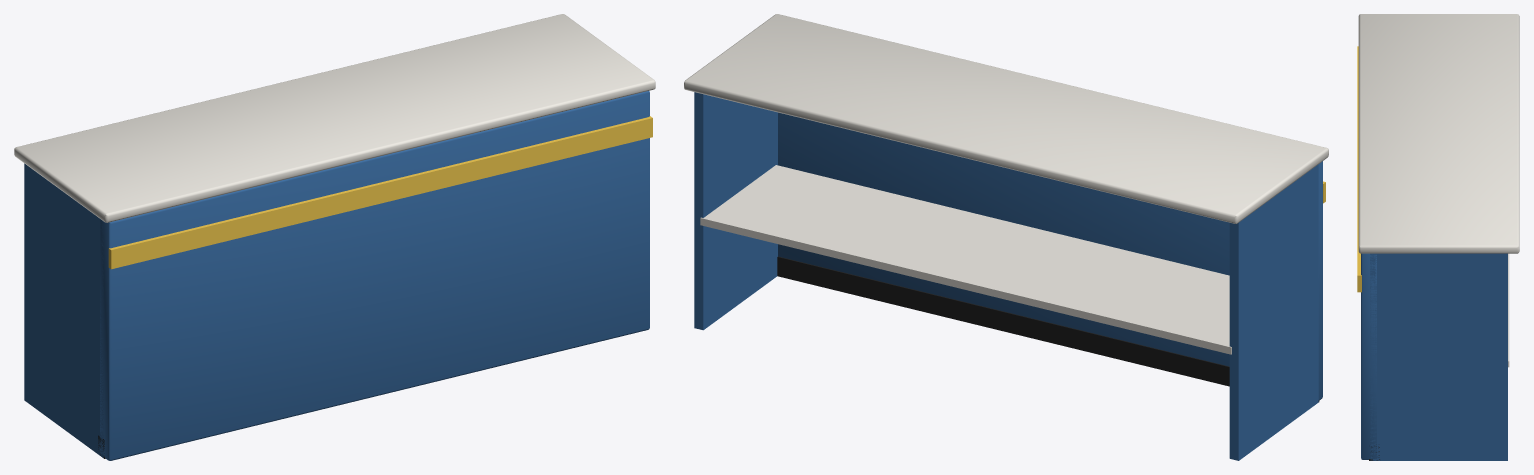
The model's file is counter.glb.
The picture shows the model from 3 angles, left to right: view 1: azimuth 30°, elevation 25°; view 2: azimuth 150°, elevation 25°; view 3: azimuth 270°, elevation 25°; orthographic projection. The views are drawn at different scales.
Visible parts, largest first — view 1: counter; view 2: counter; view 3: counter.
Part boxes in pixels (<box>): counter: <box>14,14,655,460</box>; counter: <box>684,14,1328,460</box>; counter: <box>1357,14,1519,460</box>.
Size of the model in its own units: 2.4 by 1.04 by 0.705.
